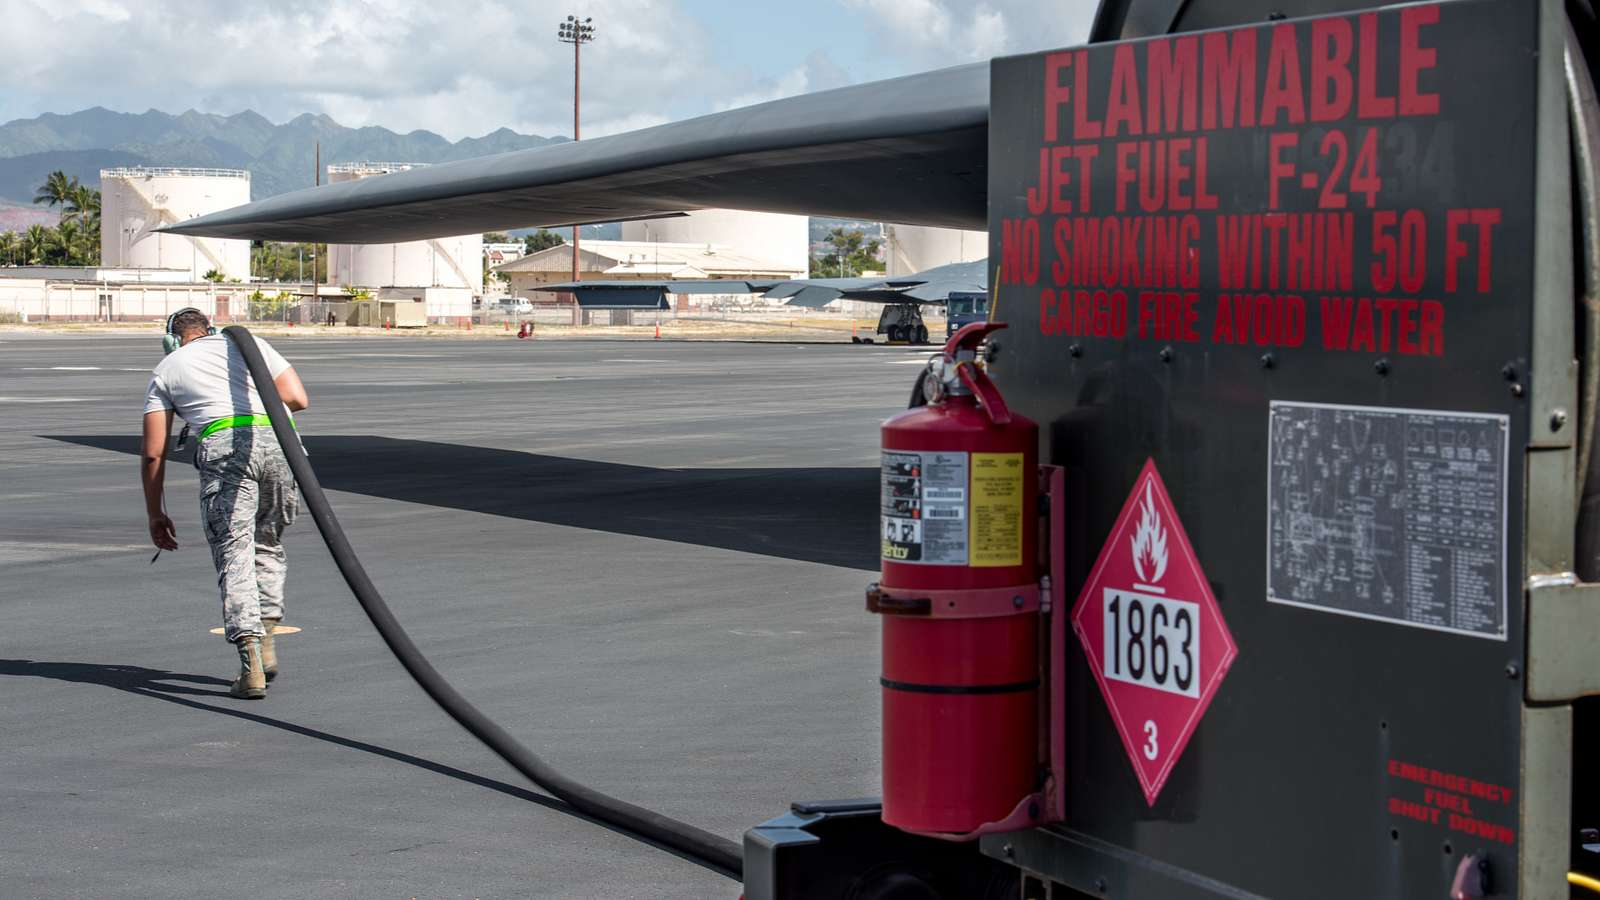B2: (146, 60, 990, 245), (523, 257, 988, 346)
